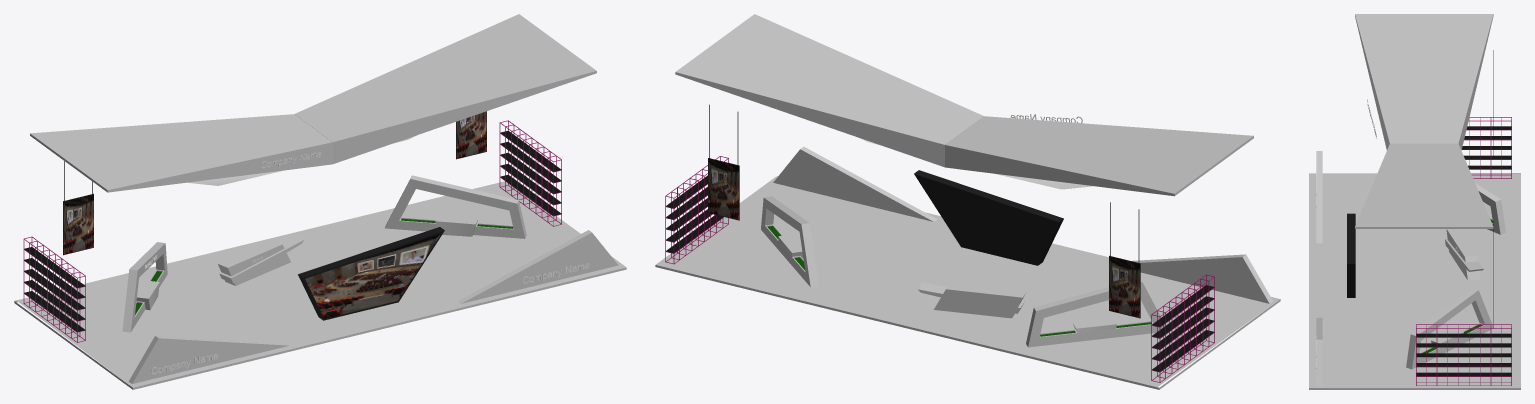
File: 00_stand_01.fbx
3 renders of one model, left to right at view 1: azimuth 30°, elevation 25°; view 2: azimuth 150°, elevation 25°; view 3: azimuth 270°, elevation 25°, orthographic. The views are drawn at different scales.
Parts seen in each view (by area): view 1: Floor, Ceiling02, Ceiling01, BackScreen, Partition01, Ads02, Ads01, Shelf01, Shelf02, Partition02, Desk, Shelf04 (+3 smaller); view 2: Floor, Ceiling02, Ceiling01, BackScreen, Ads02, Ads01, Partition02, Desk, Partition01, Shelf02, Shelf06, Flag01 (+3 smaller); view 3: Floor, Ceiling01, Ceiling02, Partition01, Shelf01, Shelf04, Desk, Shelf02, Shelf06, BackScreen, Partition02, Ads01 (+1 smaller).
Boxes of the visible parts, box(x1,y1,x2,y2) form: Floor: box(14, 181, 626, 389); Ceiling02: box(294, 14, 596, 163); Ceiling01: box(30, 114, 332, 192); BackScreen: box(298, 227, 444, 320); Partition01: box(385, 175, 526, 238); Ads02: box(457, 230, 618, 303); Ads01: box(128, 335, 289, 383); Shelf01: box(500, 131, 561, 215); Shelf02: box(24, 247, 84, 331); Partition02: box(122, 242, 167, 332); Desk: box(218, 235, 303, 285); Shelf04: box(499, 120, 561, 226); Floor: box(655, 176, 1280, 389); Ceiling02: box(675, 14, 983, 167); Ceiling01: box(945, 116, 1253, 196); BackScreen: box(914, 170, 1063, 265); Ads02: box(773, 146, 937, 221); Ads01: box(1131, 254, 1272, 303); Partition02: box(1026, 279, 1165, 347); Desk: box(917, 282, 1026, 318); Partition01: box(761, 196, 818, 287); Shelf02: box(1152, 285, 1214, 371); Shelf06: box(1151, 274, 1214, 382); Flag01: box(1109, 202, 1140, 318); Floor: box(1309, 173, 1520, 389); Ceiling01: box(1355, 14, 1493, 150); Ceiling02: box(1355, 143, 1493, 228); Partition01: box(1406, 288, 1493, 369); Shelf01: box(1416, 333, 1511, 376); Shelf04: box(1416, 324, 1511, 385); Desk: box(1445, 229, 1483, 280); Shelf02: box(1462, 126, 1511, 169); Shelf06: box(1462, 117, 1511, 178); BackScreen: box(1347, 213, 1355, 297); Partition02: box(1475, 183, 1505, 234); Ads01: box(1316, 151, 1322, 243).
Bounding box in the file's own units: 2400 × 840 × 1000.
